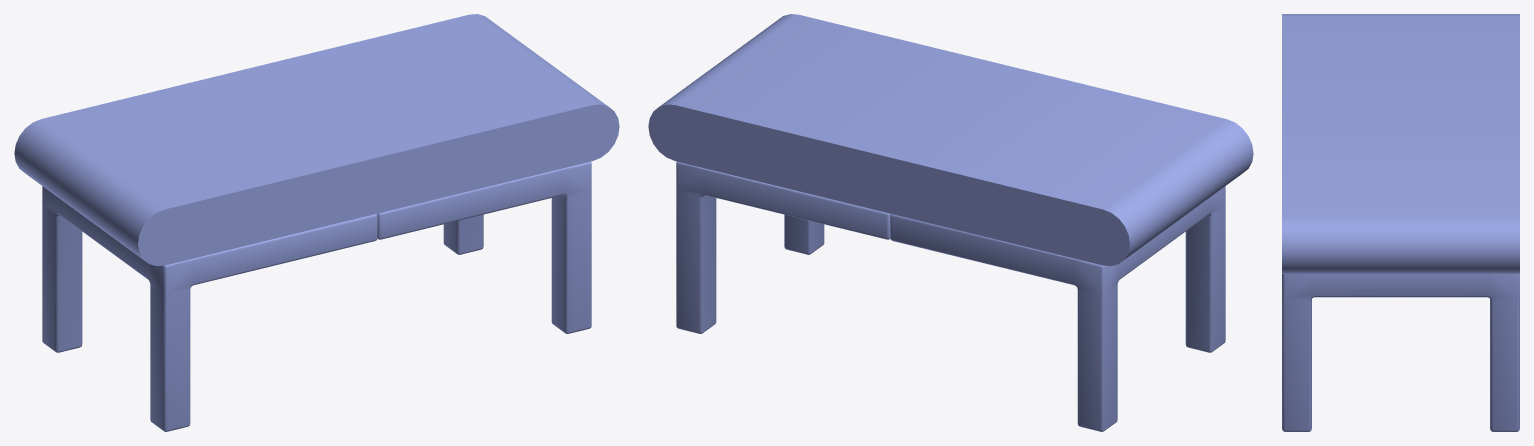
3 views of the same model, side by side, from view 1: azimuth 30°, elevation 25°; view 2: azimuth 150°, elevation 25°; view 3: azimuth 270°, elevation 25° (orthographic). The views are drawn at different scales.
Parts seen in each view (by area): view 1: 履带1; view 2: 履带1; view 3: 履带1.
Part boxes in pixels (x1,y1,x2,y2): 履带1: [14, 14, 619, 431]; 履带1: [648, 14, 1253, 431]; 履带1: [1282, 14, 1519, 431].
Bounding box in the file's own units: 180 × 80 × 80.
